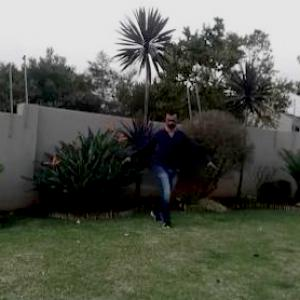land: (111, 100, 215, 232)
